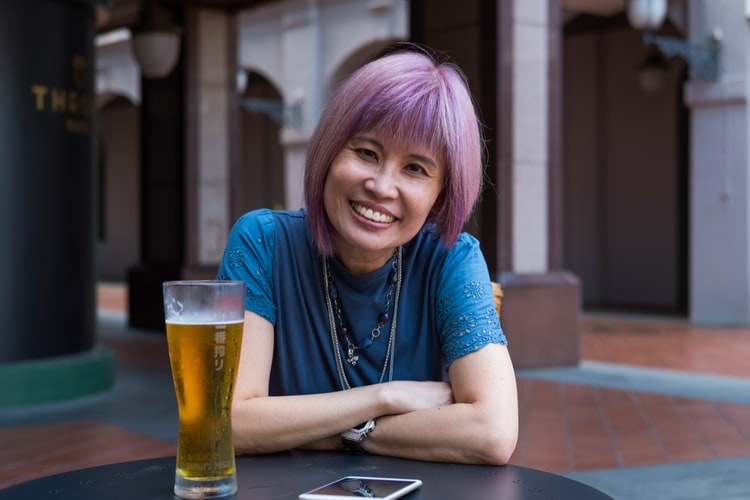whiskey: (173, 275, 240, 491)
